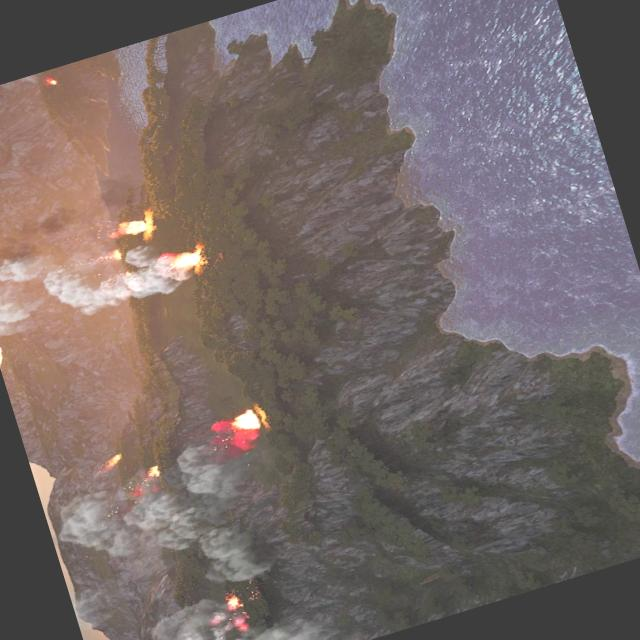fire: (164, 242, 205, 274), (116, 210, 156, 240), (226, 404, 263, 434), (102, 451, 123, 466), (224, 593, 242, 610), (144, 464, 162, 479), (44, 72, 60, 86), (108, 246, 124, 260), (0, 330, 5, 366)
smoke: (44, 435, 278, 633), (0, 208, 191, 346), (85, 558, 372, 640)
